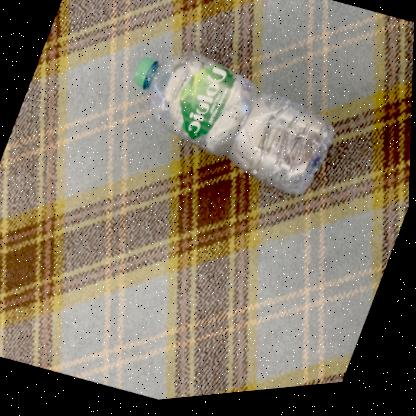Plastic: (133, 55, 334, 200)
